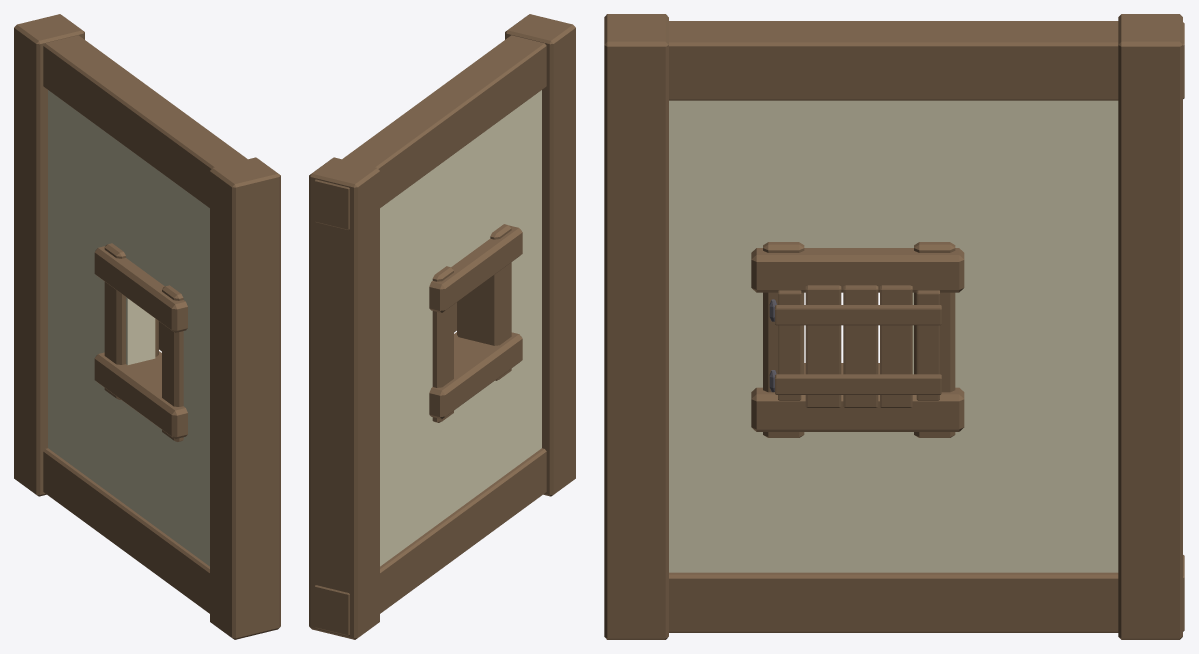
Rendered from Wall_11_window_closed.fbx.
3 views of the same model, side by side, from view 1: azimuth 30°, elevation 25°; view 2: azimuth 150°, elevation 25°; view 3: azimuth 270°, elevation 25° (orthographic). The views are drawn at different scales.
Parts seen in each view (by area): view 1: Cube.005, Plank.080, Plank.079, Plank.077, Plank.078, Plank.083, Plank.084, Plank.081, Plank.082; view 2: Cube.005, Plank.079, Plank.080, Plank.077, Plank.078, Plank.083, Plank.082, Plank.084, Plank.081; view 3: Cube.005, Plank.079, Plank.080, Plank.077, Plank.078, Plank.084, Plank.083, Plank.090, Plank.091, Plank.086, Plank.087, Plank.088 (+4 smaller).
Part boxes in pixels (x1,y1,x2,y2): Cube.005: [48, 90, 209, 566]; Plank.080: [210, 157, 280, 639]; Plank.079: [14, 14, 84, 496]; Plank.077: [43, 35, 247, 207]; Plank.078: [43, 448, 209, 613]; Plank.083: [94, 351, 187, 439]; Plank.084: [94, 246, 187, 332]; Plank.081: [104, 243, 158, 399]; Plank.082: [162, 285, 183, 441]; Cube.005: [380, 90, 541, 566]; Plank.079: [309, 157, 379, 639]; Plank.080: [505, 14, 575, 496]; Plank.077: [314, 35, 546, 230]; Plank.078: [314, 448, 546, 635]; Plank.083: [429, 332, 522, 419]; Plank.082: [457, 224, 511, 380]; Plank.084: [429, 225, 522, 312]; Plank.081: [432, 266, 453, 422]; Cube.005: [669, 100, 1118, 572]; Plank.079: [1118, 14, 1182, 639]; Plank.080: [604, 14, 668, 639]; Plank.077: [669, 21, 1184, 100]; Plank.078: [669, 555, 1184, 632]; Plank.084: [751, 248, 964, 292]; Plank.083: [751, 363, 964, 431]; Plank.090: [775, 305, 941, 325]; Plank.091: [775, 374, 941, 394]; Plank.086: [805, 285, 841, 407]; Plank.087: [843, 285, 878, 407]; Plank.088: [880, 285, 912, 407].
Size of the model in its own units: 70.7 by 449 by 395.
